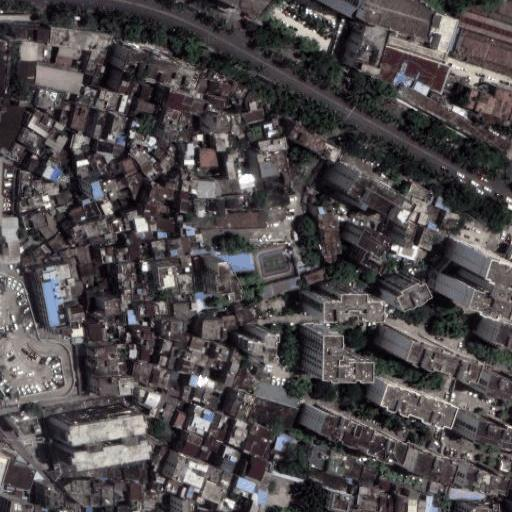building: (371, 31, 453, 106), (433, 238, 501, 313), (370, 319, 454, 372), (318, 159, 392, 215), (368, 371, 449, 422), (259, 3, 331, 56), (294, 320, 350, 377), (47, 428, 132, 465), (42, 403, 128, 439), (49, 26, 117, 71), (344, 417, 408, 463), (453, 29, 512, 78), (281, 116, 340, 158), (445, 463, 509, 501), (350, 224, 392, 279), (350, 22, 390, 78), (456, 7, 512, 46), (460, 78, 512, 120), (245, 394, 300, 433), (307, 401, 356, 444), (398, 440, 450, 480), (38, 265, 68, 330), (297, 282, 363, 311), (461, 361, 511, 398), (460, 407, 512, 441), (145, 59, 200, 91), (54, 260, 85, 309), (381, 269, 422, 306), (35, 64, 83, 95), (0, 100, 28, 152), (0, 404, 36, 442), (201, 253, 233, 295), (475, 318, 512, 354), (74, 243, 100, 294), (1, 460, 40, 494), (309, 205, 334, 257), (247, 330, 283, 366), (198, 211, 269, 229), (325, 452, 365, 481), (35, 87, 77, 113), (155, 389, 183, 427), (132, 262, 156, 306), (242, 424, 273, 458), (23, 113, 60, 141), (204, 412, 235, 444), (261, 275, 303, 298), (131, 381, 164, 410), (116, 81, 141, 119), (193, 437, 223, 468), (18, 39, 53, 65), (200, 380, 229, 411), (257, 149, 288, 178), (188, 405, 215, 438), (226, 418, 252, 451), (160, 107, 184, 142), (205, 466, 239, 490), (234, 299, 264, 326), (64, 480, 93, 507), (165, 86, 195, 112), (117, 46, 142, 76), (31, 109, 66, 130), (183, 460, 209, 488), (226, 390, 250, 420), (201, 316, 227, 343), (19, 128, 48, 151), (178, 431, 200, 461), (140, 157, 165, 183), (131, 362, 158, 386), (165, 235, 192, 259), (219, 446, 242, 474), (125, 174, 148, 202), (226, 110, 249, 138), (96, 347, 118, 376), (80, 218, 109, 240), (292, 244, 311, 277), (246, 455, 269, 482), (43, 132, 70, 155), (189, 334, 217, 356), (172, 301, 200, 323), (15, 59, 37, 87), (233, 475, 258, 499), (162, 318, 187, 342), (38, 216, 62, 241), (95, 89, 120, 113), (46, 231, 70, 255), (11, 26, 49, 41), (71, 107, 92, 134), (160, 451, 180, 479), (403, 220, 421, 251), (75, 87, 99, 110), (81, 68, 106, 90), (390, 244, 420, 262), (212, 341, 235, 364), (256, 137, 289, 153), (0, 143, 26, 163), (92, 152, 111, 179), (135, 301, 167, 317), (18, 196, 50, 212), (360, 466, 382, 489), (185, 349, 213, 367), (148, 184, 176, 202), (97, 375, 119, 397), (241, 370, 264, 391), (108, 115, 124, 145), (224, 360, 241, 388), (443, 488, 479, 501), (242, 107, 268, 125), (91, 110, 106, 141), (195, 69, 211, 98), (202, 481, 222, 504), (158, 266, 178, 289), (68, 324, 91, 344), (310, 445, 329, 469), (208, 81, 234, 98), (329, 492, 351, 512), (219, 313, 241, 333), (196, 147, 215, 170), (83, 200, 102, 223), (142, 203, 169, 219), (135, 131, 159, 149), (355, 495, 380, 512), (396, 495, 421, 512), (217, 178, 242, 195), (136, 98, 161, 115), (378, 492, 399, 512), (68, 305, 88, 326), (119, 158, 139, 179), (18, 171, 33, 199), (409, 203, 428, 225), (441, 211, 460, 233), (70, 132, 92, 151), (118, 263, 134, 289), (208, 115, 231, 133), (138, 85, 161, 103), (191, 377, 207, 402), (153, 369, 172, 390), (102, 180, 121, 201), (76, 153, 91, 179), (149, 240, 168, 260), (197, 180, 217, 199), (66, 221, 85, 241), (250, 485, 269, 505), (231, 82, 248, 104), (306, 269, 329, 285), (127, 119, 142, 143), (125, 342, 142, 363), (157, 217, 178, 234), (165, 346, 178, 373), (115, 482, 130, 505), (118, 375, 134, 396), (88, 322, 103, 344), (120, 288, 135, 310), (421, 228, 436, 250), (188, 232, 206, 250), (163, 479, 182, 496), (99, 200, 118, 217), (102, 483, 116, 506), (174, 411, 190, 431), (41, 182, 62, 197), (225, 196, 247, 210), (30, 212, 49, 228), (263, 122, 279, 141), (358, 486, 381, 499), (91, 180, 105, 201), (105, 298, 122, 315), (134, 150, 151, 167), (424, 205, 440, 223), (226, 154, 237, 179), (377, 477, 393, 494), (113, 248, 130, 264), (158, 156, 175, 172), (108, 220, 125, 236), (56, 189, 74, 204), (192, 100, 210, 115), (92, 483, 103, 507), (183, 142, 192, 171), (210, 359, 230, 372), (425, 496, 441, 512), (137, 349, 152, 366), (100, 246, 115, 263), (27, 156, 42, 173), (59, 249, 77, 263), (194, 199, 208, 217), (144, 491, 157, 510), (135, 217, 150, 233), (69, 205, 85, 220), (231, 346, 245, 363), (47, 151, 60, 169), (97, 141, 115, 154), (138, 243, 152, 259), (167, 174, 181, 190), (130, 483, 143, 500), (123, 217, 136, 234), (205, 98, 225, 109), (161, 340, 173, 358), (32, 179, 43, 198), (128, 245, 141, 261), (141, 338, 155, 352), (181, 199, 195, 213), (49, 168, 62, 183), (59, 110, 72, 125), (429, 479, 441, 495), (182, 385, 194, 401), (241, 177, 257, 189), (167, 383, 184, 394), (42, 164, 54, 179), (113, 145, 128, 157), (102, 152, 117, 164), (186, 484, 197, 500), (129, 145, 142, 158), (216, 139, 228, 153), (115, 134, 129, 146), (126, 309, 137, 324), (172, 340, 190, 349), (59, 155, 71, 168), (170, 370, 181, 384), (156, 230, 170, 241), (181, 359, 191, 374), (184, 226, 199, 236), (0, 390, 9, 406), (158, 355, 169, 368), (155, 148, 166, 161), (32, 147, 46, 157), (169, 497, 178, 512), (408, 490, 422, 499), (177, 347, 188, 358), (246, 501, 257, 512), (216, 132, 231, 140), (418, 499, 427, 512), (127, 210, 140, 219), (208, 199, 217, 212), (247, 101, 258, 111), (426, 222, 438, 231), (55, 205, 68, 213), (217, 199, 225, 212), (180, 487, 189, 498), (188, 376, 197, 387), (256, 503, 267, 512), (116, 505, 130, 512), (144, 331, 156, 339), (149, 221, 157, 233), (181, 190, 190, 199), (181, 181, 190, 190), (46, 108, 53, 116), (181, 172, 187, 181)
